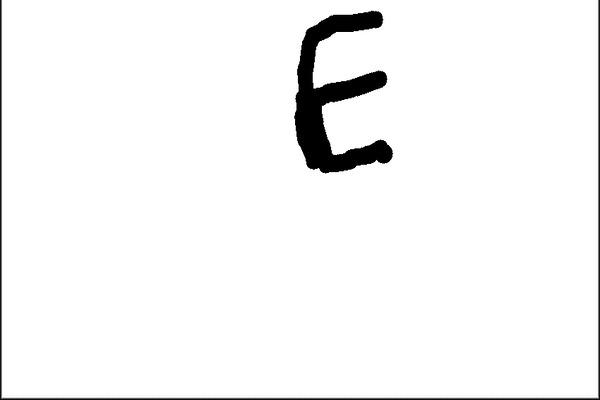E: (289, 7, 399, 177)
